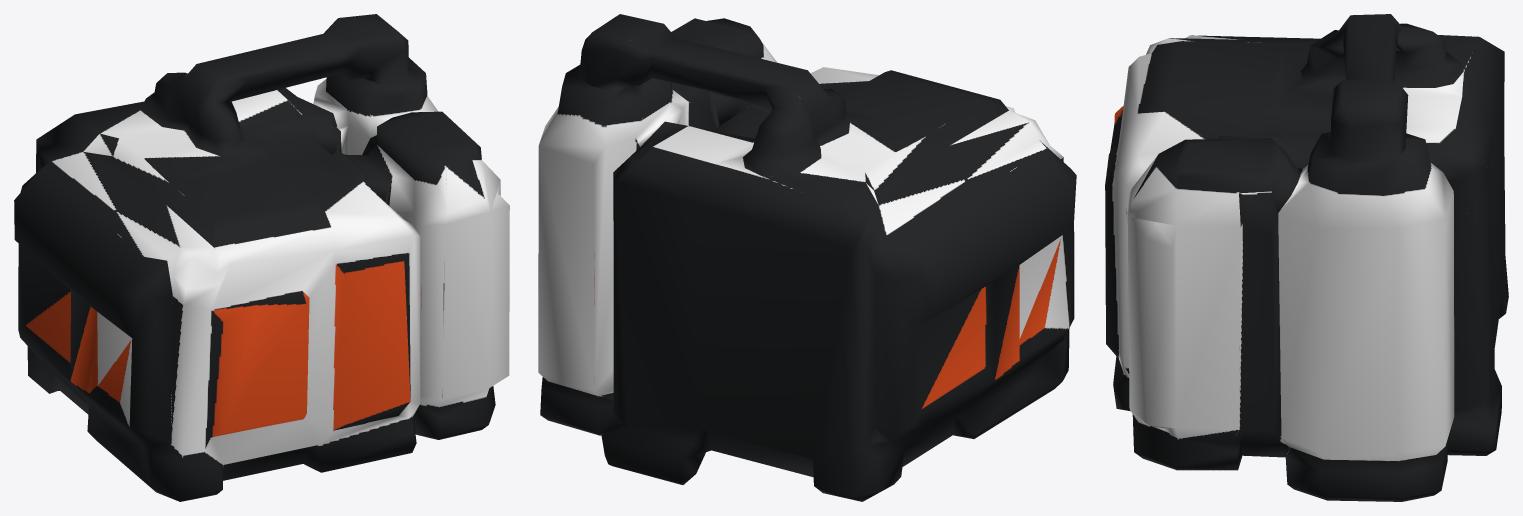
Rendered from oxygen_generator.glb.
3 views of the same model, side by side, from view 1: azimuth 30°, elevation 25°; view 2: azimuth 150°, elevation 25°; view 3: azimuth 270°, elevation 25° (orthographic). The views are drawn at different scales.
Visible parts, largest first — view 1: BakeLow; view 2: BakeLow; view 3: BakeLow.
Boxes of the visible parts, bbox=[...] form: BakeLow: bbox=[14, 14, 509, 501]; BakeLow: bbox=[538, 14, 1076, 501]; BakeLow: bbox=[1105, 14, 1508, 501].
Bounding box in the file's own units: 1.6 × 1.4 × 1.31.
1 material, 1 textured.
